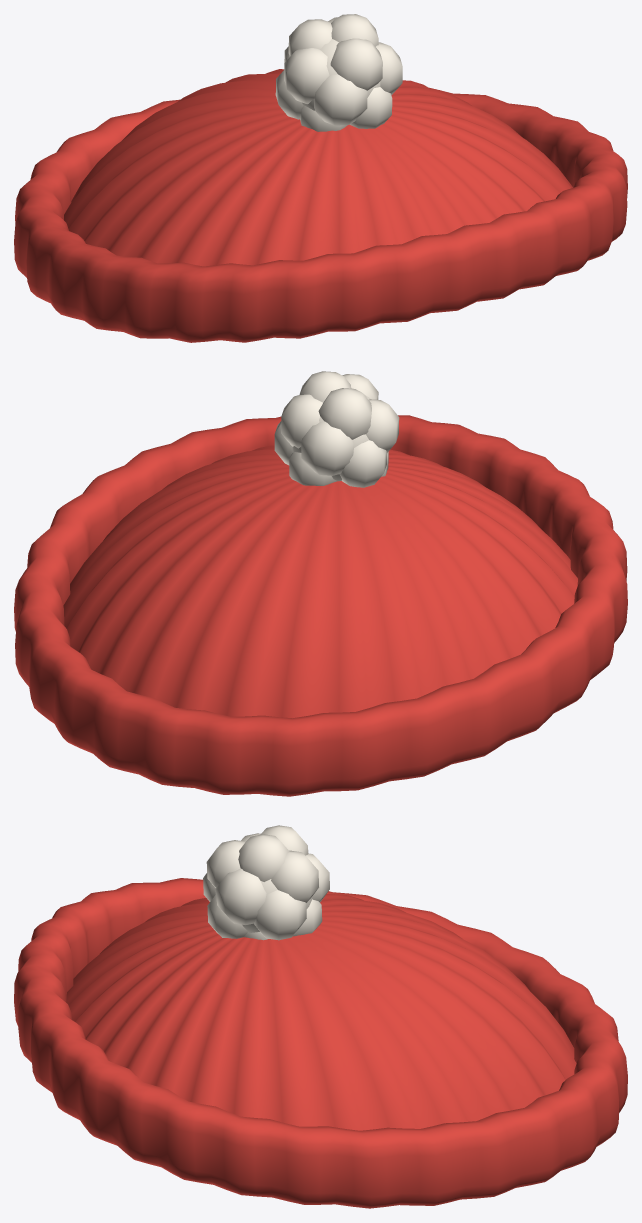
File: hat_beanie.glb
3 views of the same model, one above another, from view 1: azimuth 30°, elevation 25°; view 2: azimuth 150°, elevation 25°; view 3: azimuth 270°, elevation 25° (orthographic).
Parts seen in each view (by area): view 1: HatBeanie; view 2: HatBeanie; view 3: HatBeanie.
Part boxes in pixels (x1,y1,x2,y2): HatBeanie: (14, 14, 627, 342); HatBeanie: (14, 371, 627, 796); HatBeanie: (14, 825, 627, 1208).
Size of the model in its own units: 0.5572 by 0.281 by 0.5535.
